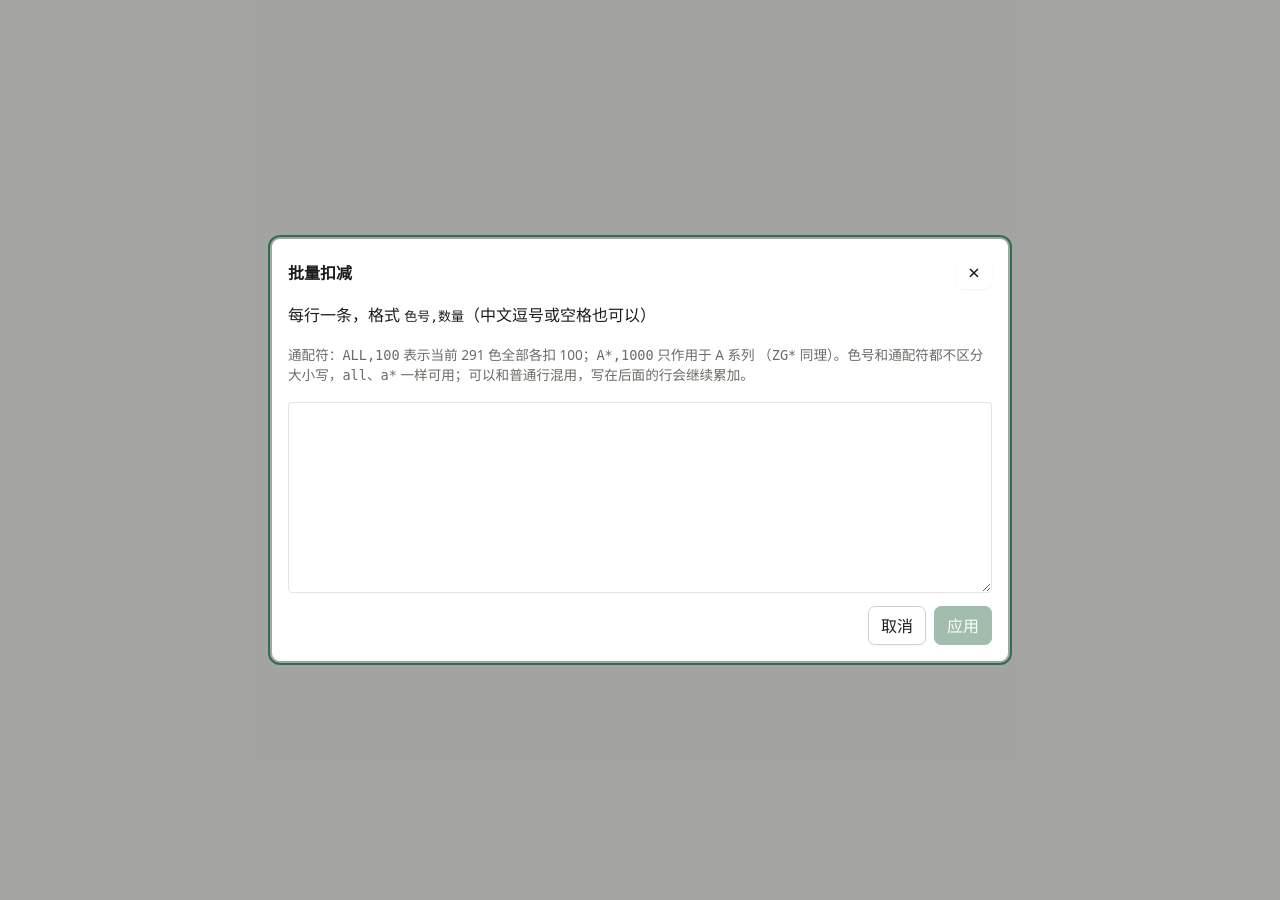
it: BatchDialog › warns that a deduction would go negative but still allows it
In the text box named "批量输入": (640, 498) [288, 402, 992, 593], type "A1,250"
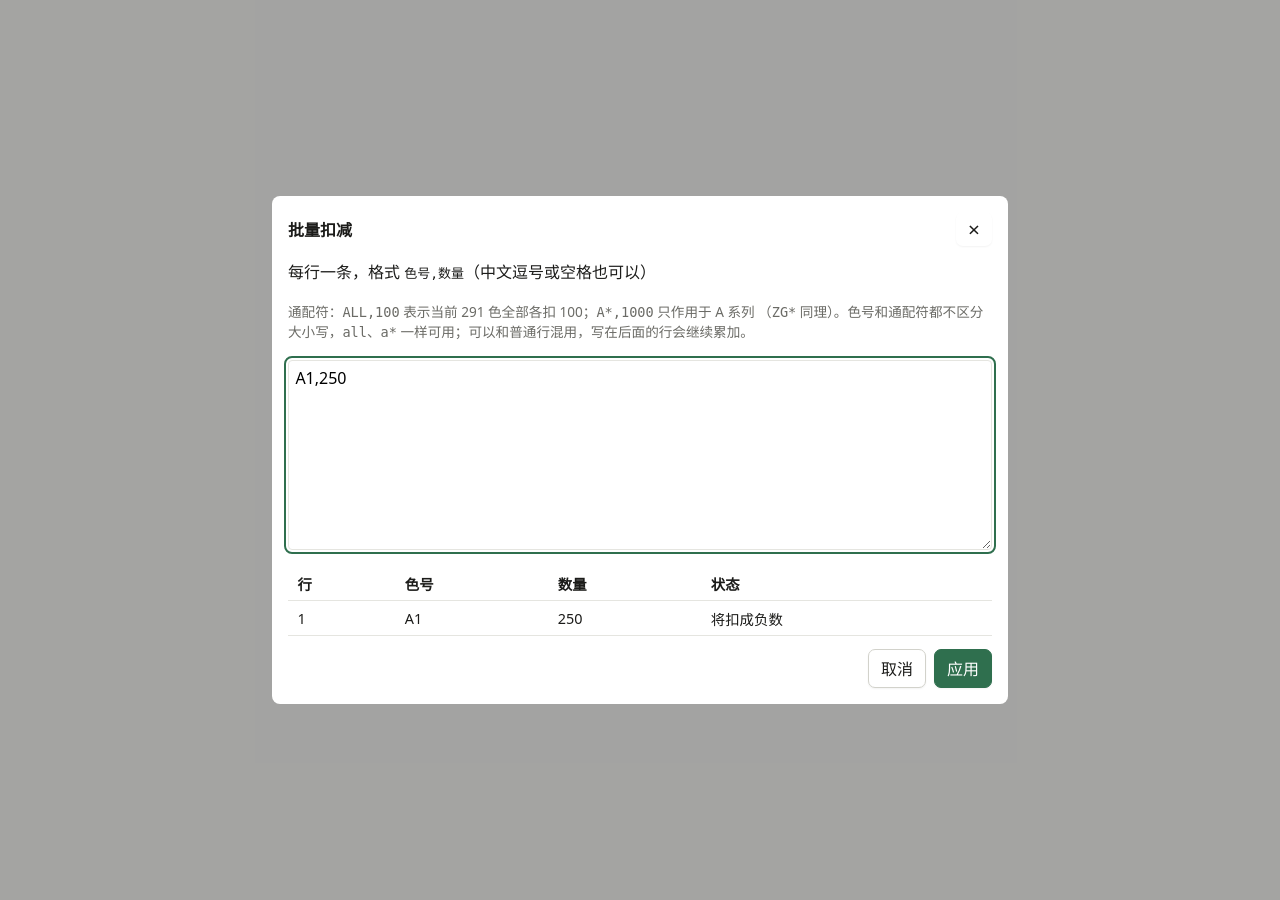
Expected: the text "将扣成负数" is shown, [701, 601, 992, 636]
Expected: the button "应用" is enabled, [934, 649, 992, 688]
